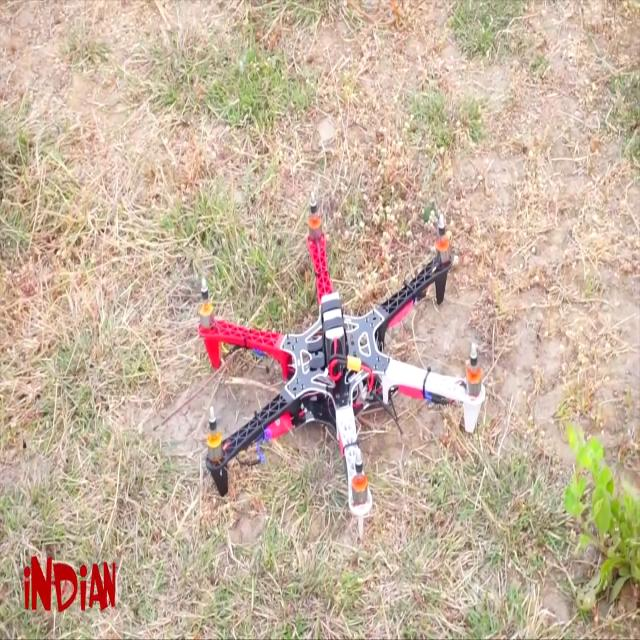drone: (153, 167, 501, 551)
